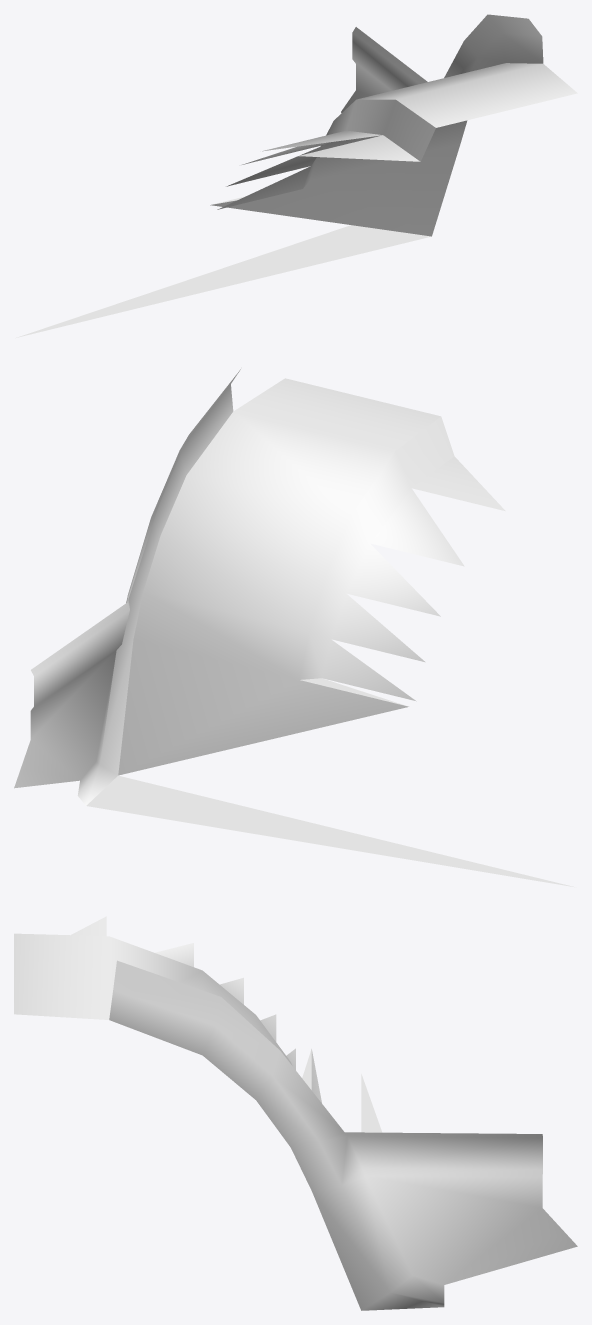
3 renders of one model, top to bottom at view 1: azimuth 30°, elevation 25°; view 2: azimuth 150°, elevation 25°; view 3: azimuth 270°, elevation 25°, orthographic. The views are drawn at different scales.
Bounding box in the file's own units: 0.6306 × 0.418 × 0.6179.
Materials: 1 (1 with a texture image).
